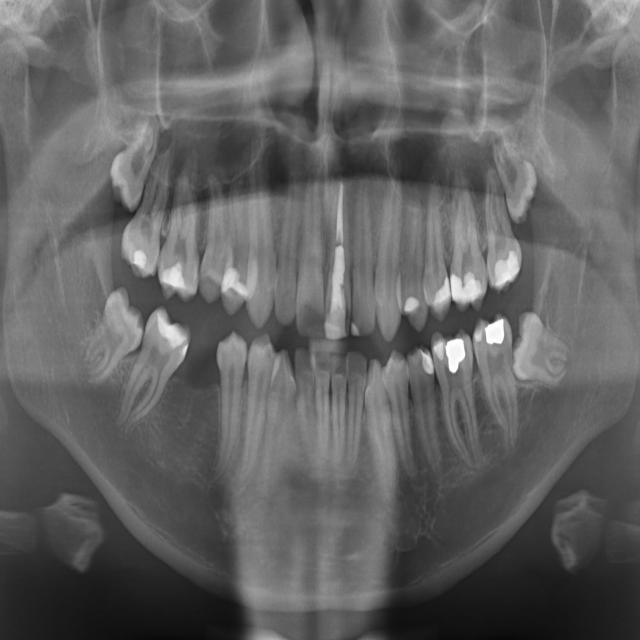3M ESPE Implant: (99, 108, 167, 213)
AGS Medikal Implant: (351, 171, 378, 338)
AMerOss Implant: (374, 151, 403, 343)
Amalgam filling: (401, 182, 430, 331)
Anthogyr Implant: (417, 176, 452, 323)
Bicon Implant: (445, 191, 490, 313)
BioHorizons Implant: (482, 163, 524, 294)
BioLife Implant: (488, 122, 548, 225)
Biomet 3i Implant: (505, 310, 580, 391)
Blue Sky Bio Implant: (470, 312, 532, 452)
Camlog Implant: (430, 328, 483, 469)
Caries: (117, 144, 174, 281)
Composite filling: (405, 346, 446, 480)
Cowellmedi Implant: (380, 349, 420, 481)
Crown: (361, 359, 405, 506)
DENTSPLY Implant: (347, 353, 369, 473)
Dentatus Implant: (331, 354, 347, 465)
Dentis Implant: (314, 352, 330, 466)
Dentium Implant: (293, 348, 320, 477)
Euroteknika Implant: (257, 349, 300, 495)
Filling: (229, 332, 278, 488)
Frontier Implant: (200, 330, 249, 490)
Hiossen Implant: (158, 174, 199, 303)
Implant: (112, 302, 200, 438)
Keystone Dental Implant: (73, 282, 159, 395)
MIS Implant: (199, 171, 231, 302)
Mandible: (220, 172, 253, 315)
Maxilla: (246, 129, 279, 327)
Megagen Implant: (275, 165, 300, 328)
Neodent Implant: (292, 166, 325, 339)
Neoss Implant: (325, 171, 351, 340)
